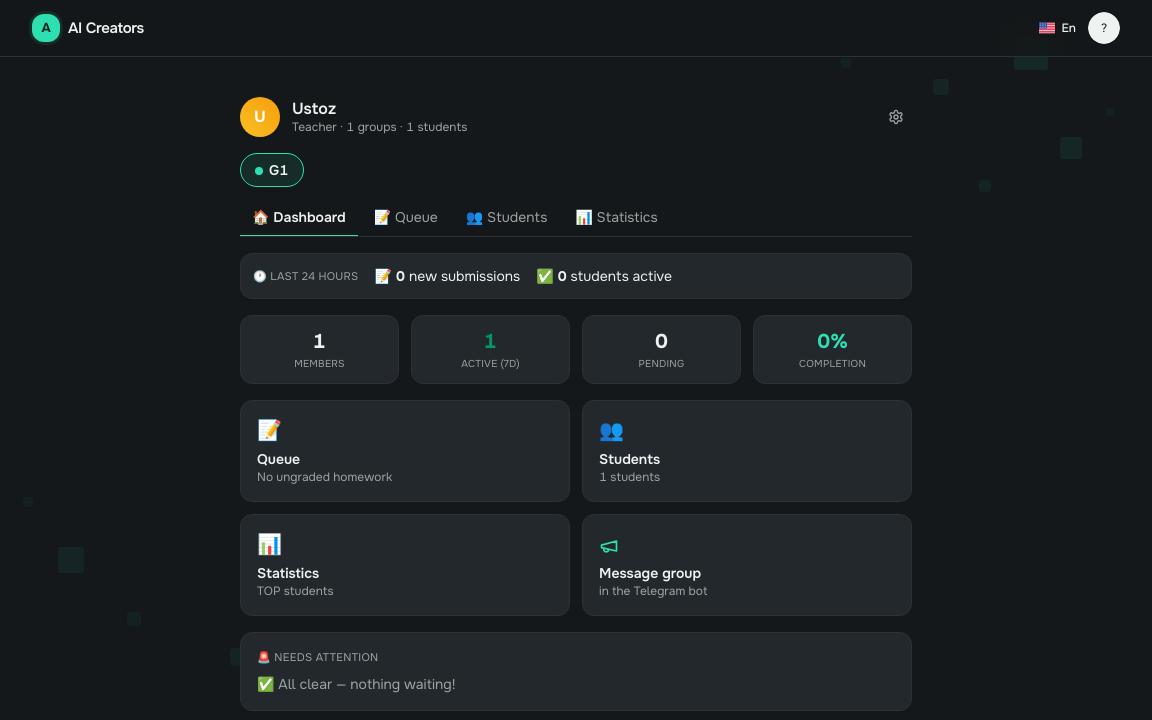
TeacherProfile grading queue — capped page indicator › more pending than the page holds → says 'showing 100 of 150' and the tab shows the real total
Click the tab "📝 Queue": (406, 222) [362,207,450,237]
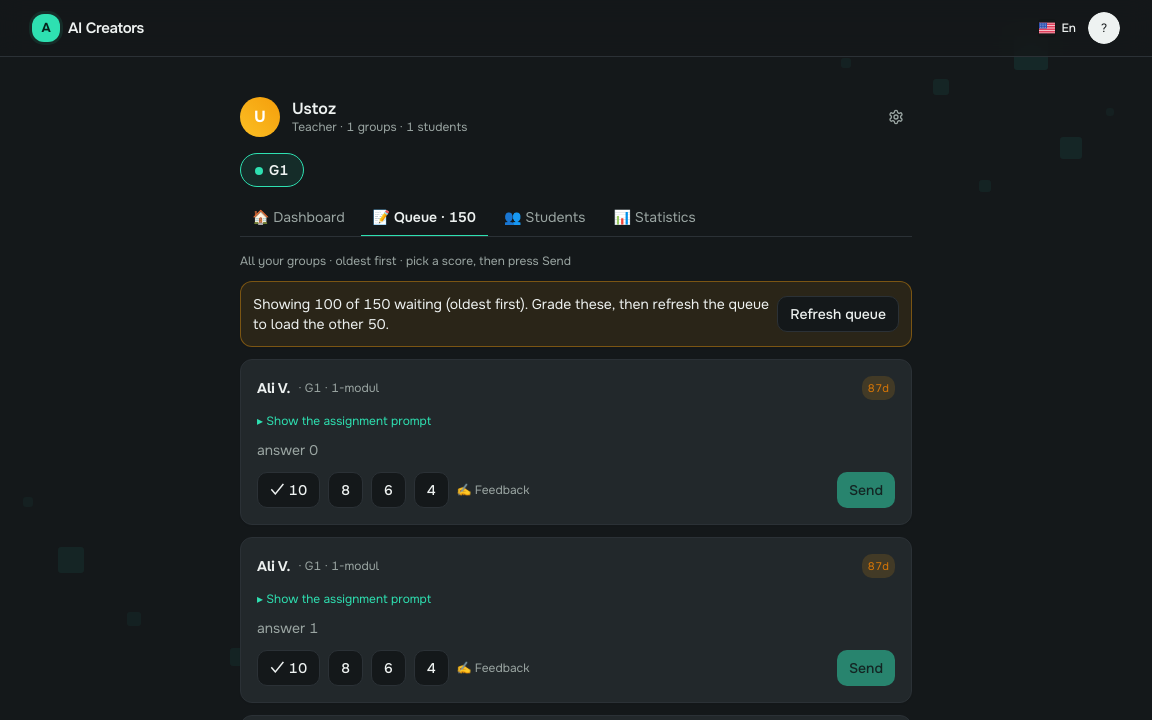
Now the text "Showing 100 of 150 waiting (oldest first). Grade these, then refresh the queue to load the other 50." is shown, box [253,295,769,333]
Now the button "Refresh queue" is shown, box [777,296,899,332]
Now the tab "📝 Queue · 150" is shown, box [361,207,488,237]
